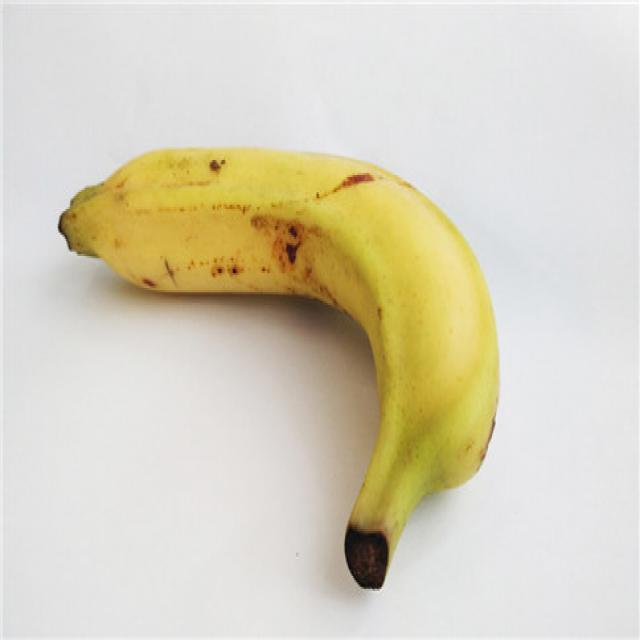Banana: (52, 138, 505, 594)
